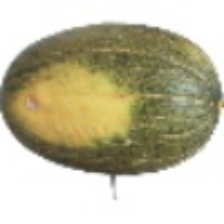honeydew: (35, 35, 218, 171)
